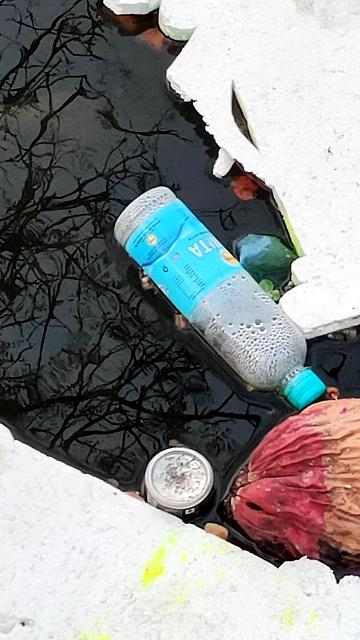bottle: (100, 176, 329, 402)
